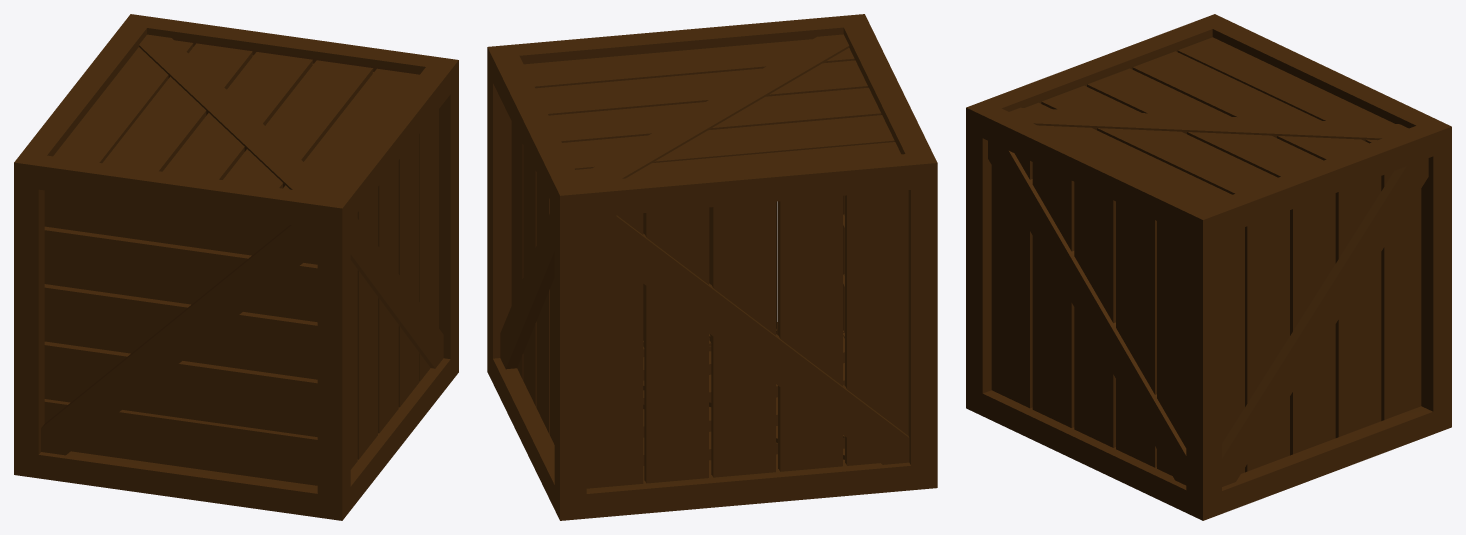
3 renders of one model, left to right at view 1: azimuth 30°, elevation 25°; view 2: azimuth 150°, elevation 25°; view 3: azimuth 270°, elevation 25°, orthographic. The views are drawn at different scales.
Parts seen in each view (by area): view 1: Box.001; view 2: Box.001; view 3: Box.001.
Part boxes in pixels (x1=…): Box.001: x1=14, y1=14, x2=458, y2=520; Box.001: x1=487, y1=14, x2=937, y2=520; Box.001: x1=966, y1=14, x2=1451, y2=520.
Size of the model in its own units: 83.69 by 56.95 by 83.36.
